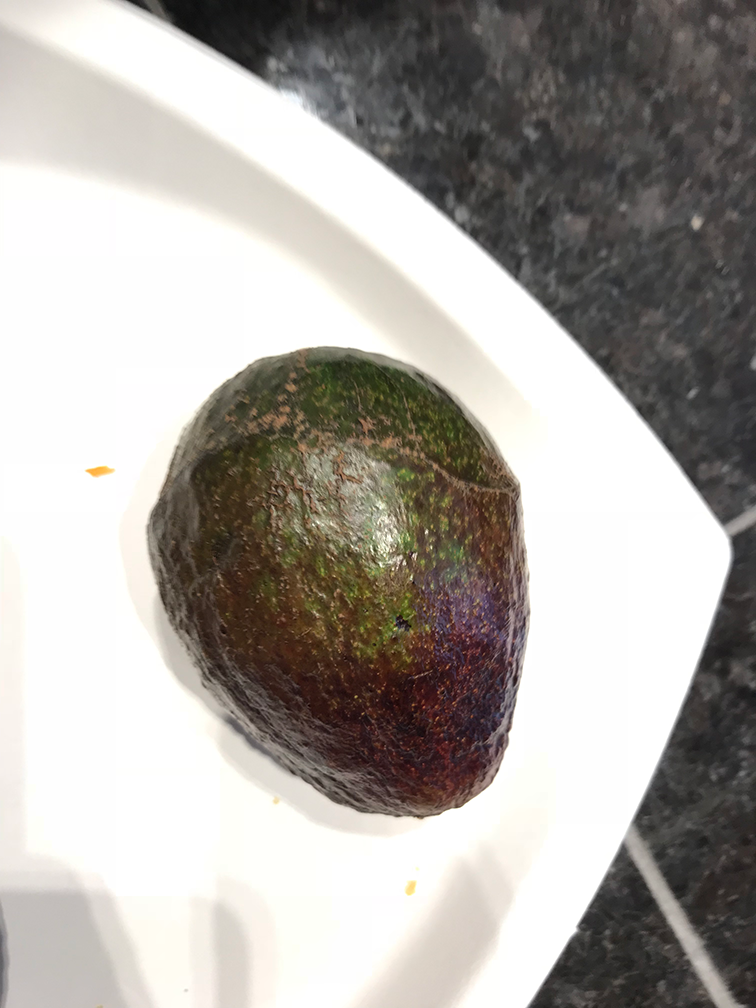avocado: (146, 334, 535, 821)
